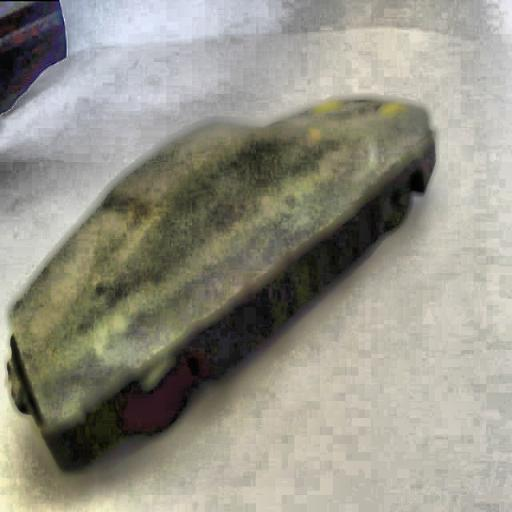normal_car: (0, 9, 437, 475)
